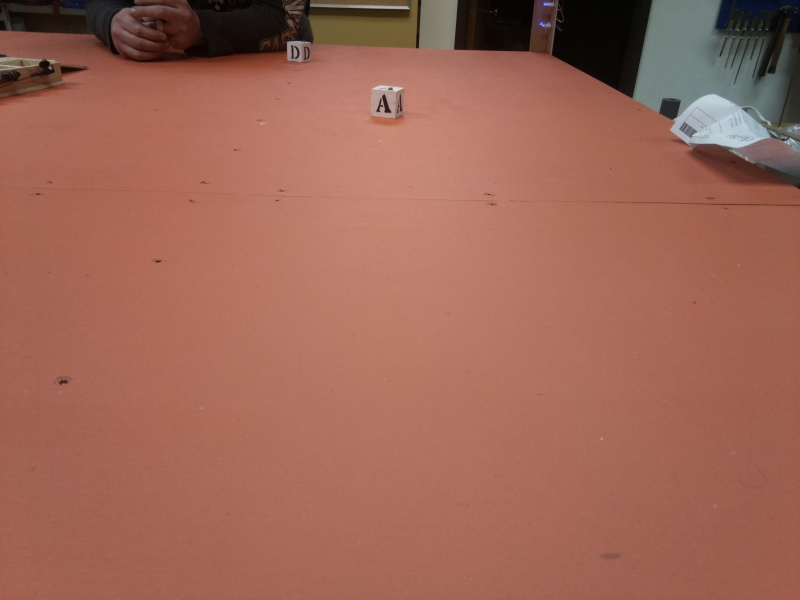blockA: (371, 85, 403, 121)
blockD: (287, 42, 311, 64)
corner: (525, 1, 561, 60)
side: (1, 58, 67, 96)
slope: (61, 60, 89, 75)
